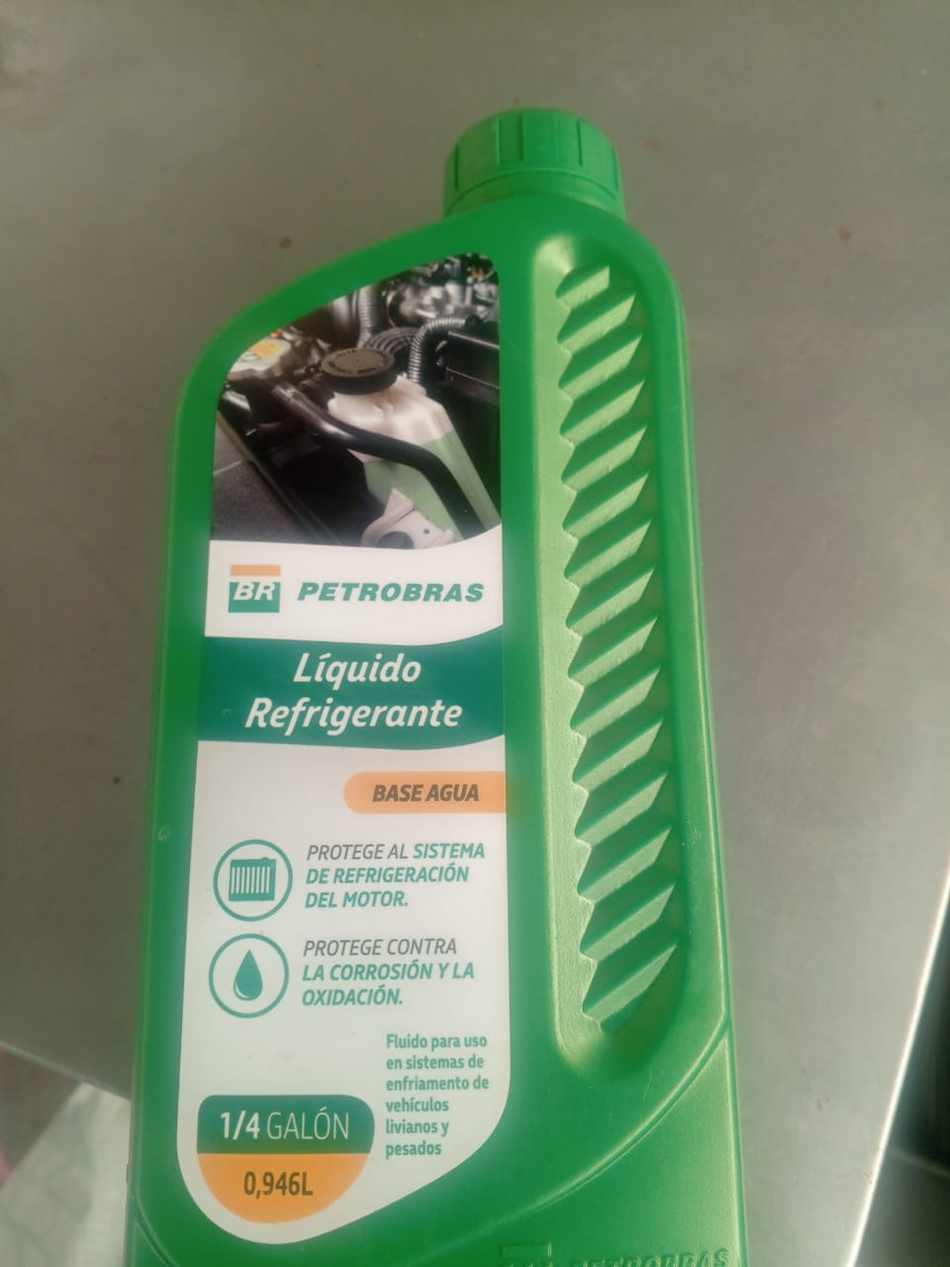Plastico: (120, 110, 746, 1267)
